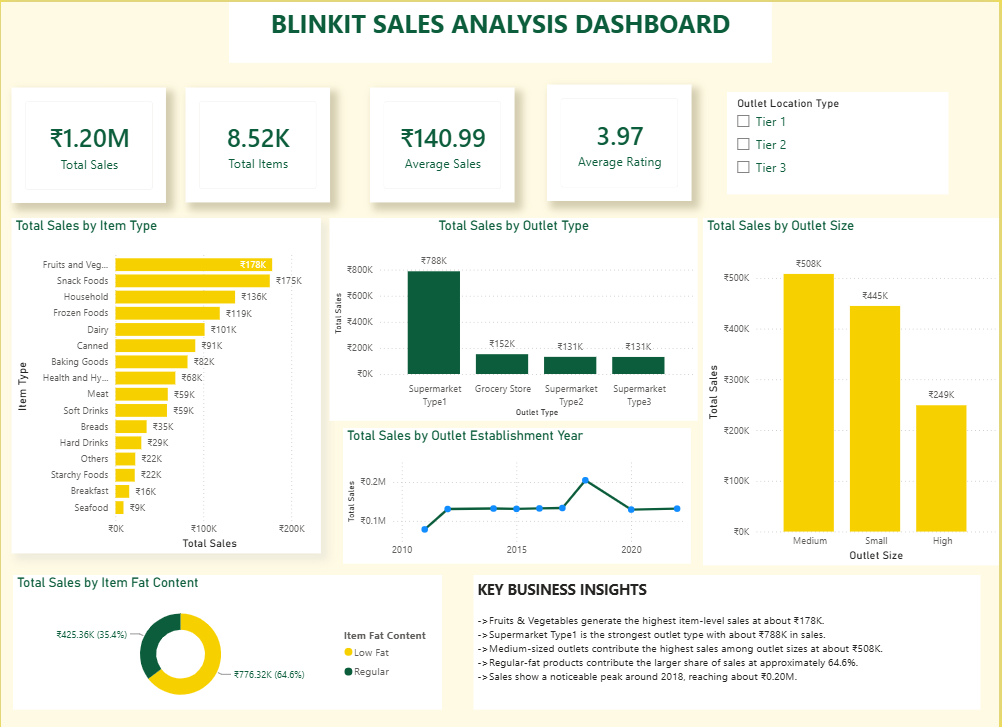

The dashboard page shown, as its layout file describes it:
{"tool":"powerbi","page":{"name":"Page 1","canvas":[1280,930],"ordinal":0},"visuals":[{"type":"cardVisual","fields":{"Data":["blinkit_cleaned.Total Sales"]},"box":[13.5,109.6,198.1,148.1],"z":0},{"type":"cardVisual","fields":{"Data":["blinkit_cleaned.Average Sales"]},"box":[472.5,108.8,185.2,147.4],"z":1},{"type":"cardVisual","fields":{"Data":["blinkit_cleaned.Average Rating"]},"box":[700,106.2,185.2,149.3],"z":2},{"type":"cardVisual","fields":{"Data":["blinkit_cleaned.Total Items"]},"box":[236.2,108.8,185.2,147.4],"z":3},{"type":"textbox","box":[292,0,696,78],"z":4},{"type":"clusteredBarChart","title":"Total Sales by Item Type","fields":{"Category":["blinkit_cleaned.Item Type"],"Y":["blinkit_cleaned.Total Sales"]},"box":[14,276,396.7,430],"z":5},{"type":"clusteredColumnChart","fields":{"Y":["blinkit_cleaned.Total Sales"],"Category":["blinkit_cleaned.Outlet Type"]},"box":[421.2,276.2,472,260],"z":6},{"type":"clusteredColumnChart","fields":{"Category":["blinkit_cleaned.Outlet Size"],"Y":["blinkit_cleaned.Total Sales"]},"box":[900,277.5,380,445],"z":7},{"type":"donutChart","fields":{"Category":["blinkit_cleaned.Item Fat Content"],"Y":["blinkit_cleaned.Total Sales"]},"box":[15,735,550,172.5],"z":8},{"type":"lineChart","fields":{"Category":["blinkit_cleaned.Outlet Establishment Year"],"Y":["blinkit_cleaned.Total Sales"]},"box":[438.8,546.2,446,174],"z":9},{"type":"slicer","fields":{"Values":["blinkit_cleaned.Outlet Location Type"]},"box":[931.2,116.2,283.8,131.2],"z":10},{"type":"textbox","box":[605,735,650,172.5],"z":11}]}

Visuals, with their boxes in screenshot pixels (x1, y1, x2, y2), scaled from the page's 1280x930 canvas onto the 1002x727 screenshot:
cardVisual - blinkit_cleaned.Total Sales: {"left": 11, "top": 86, "right": 166, "bottom": 201}
cardVisual - blinkit_cleaned.Average Sales: {"left": 370, "top": 85, "right": 515, "bottom": 200}
cardVisual - blinkit_cleaned.Average Rating: {"left": 548, "top": 83, "right": 693, "bottom": 200}
cardVisual - blinkit_cleaned.Total Items: {"left": 185, "top": 85, "right": 330, "bottom": 200}
textbox: {"left": 229, "top": 0, "right": 773, "bottom": 61}
"Total Sales by Item Type" clusteredBarChart: {"left": 11, "top": 216, "right": 322, "bottom": 552}
clusteredColumnChart - blinkit_cleaned.Total Sales x blinkit_cleaned.Outlet Type: {"left": 330, "top": 216, "right": 699, "bottom": 419}
clusteredColumnChart - blinkit_cleaned.Outlet Size x blinkit_cleaned.Total Sales: {"left": 705, "top": 217, "right": 1001, "bottom": 565}
donutChart - blinkit_cleaned.Item Fat Content x blinkit_cleaned.Total Sales: {"left": 12, "top": 575, "right": 442, "bottom": 709}
lineChart - blinkit_cleaned.Outlet Establishment Year x blinkit_cleaned.Total Sales: {"left": 343, "top": 427, "right": 693, "bottom": 563}
slicer - blinkit_cleaned.Outlet Location Type: {"left": 729, "top": 91, "right": 951, "bottom": 193}
textbox: {"left": 474, "top": 575, "right": 982, "bottom": 709}
